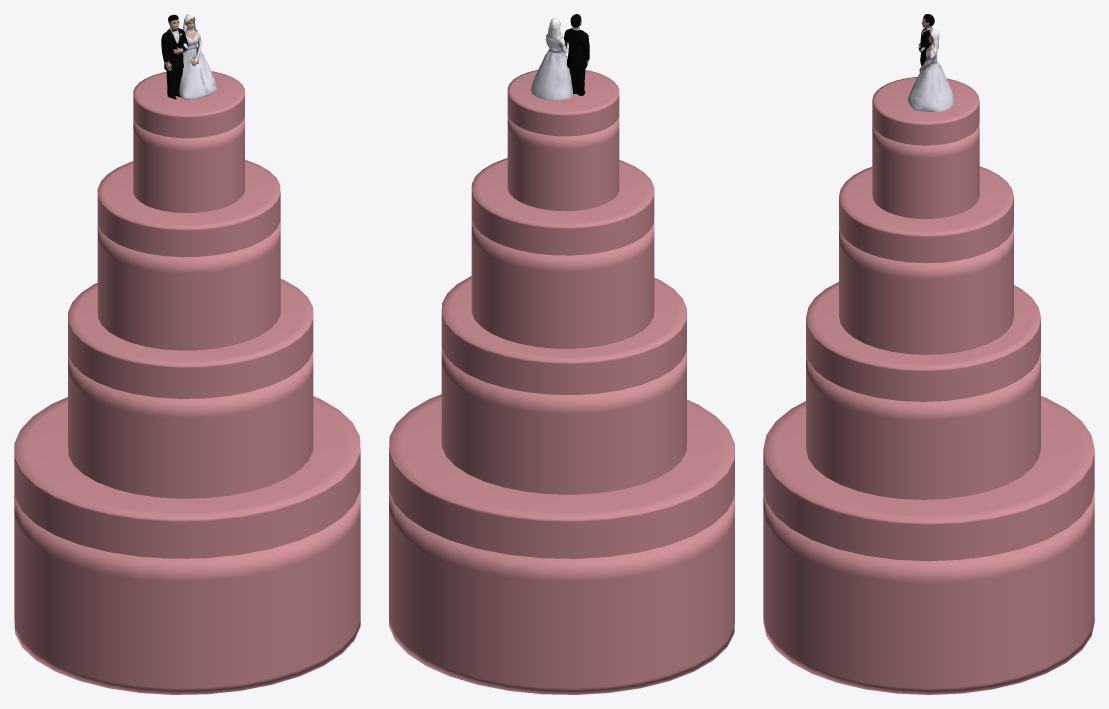
The model's file is 4-tier-blush-none-bridegroom.glb.
The picture shows the model from 3 angles, left to right: view 1: azimuth 30°, elevation 25°; view 2: azimuth 150°, elevation 25°; view 3: azimuth 270°, elevation 25°; orthographic projection.
Parts seen in each view (by area): view 1: 3.001, 3, 2, 1, 13501_Cake_Topper_Bride_Groom_v1_L1.001; view 2: 3.001, 3, 2, 1, 13501_Cake_Topper_Bride_Groom_v1_L1.001; view 3: 3.001, 3, 2, 1, 13501_Cake_Topper_Bride_Groom_v1_L1.001.
Part boxes in pixels (box(x1,y1,x2,y2)): 3.001: box(14, 396, 360, 694); 3: box(68, 279, 313, 498); 2: box(97, 159, 280, 350); 1: box(133, 71, 244, 212); 13501_Cake_Topper_Bride_Groom_v1_L1.001: box(161, 14, 216, 99); 3.001: box(389, 394, 734, 694); 3: box(441, 276, 686, 494); 2: box(471, 158, 654, 348); 1: box(507, 70, 619, 211); 13501_Cake_Topper_Bride_Groom_v1_L1.001: box(530, 14, 589, 100); 3.001: box(763, 396, 1094, 694); 3: box(806, 282, 1040, 499); 2: box(839, 166, 1013, 354); 1: box(872, 77, 979, 218); 13501_Cake_Topper_Bride_Groom_v1_L1.001: box(907, 14, 954, 111).
Size of the model in its own units: 4.43 by 8.54 by 4.27.
Materials: 2 (1 with a texture image).
